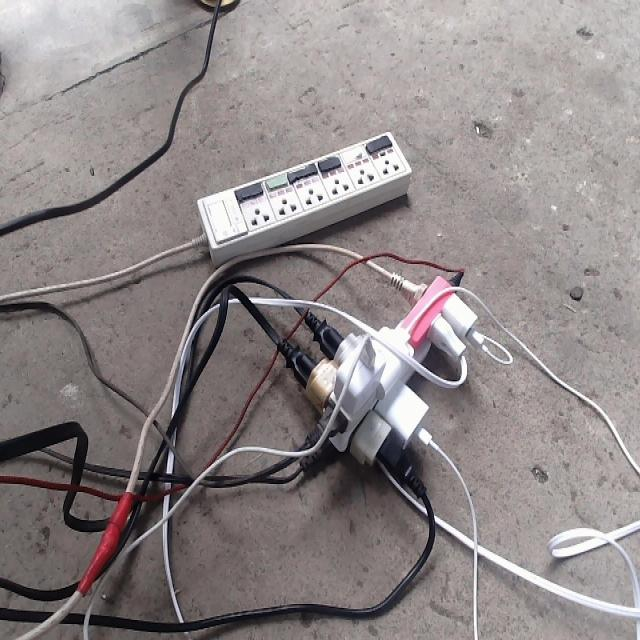-: (260, 240, 507, 551)
